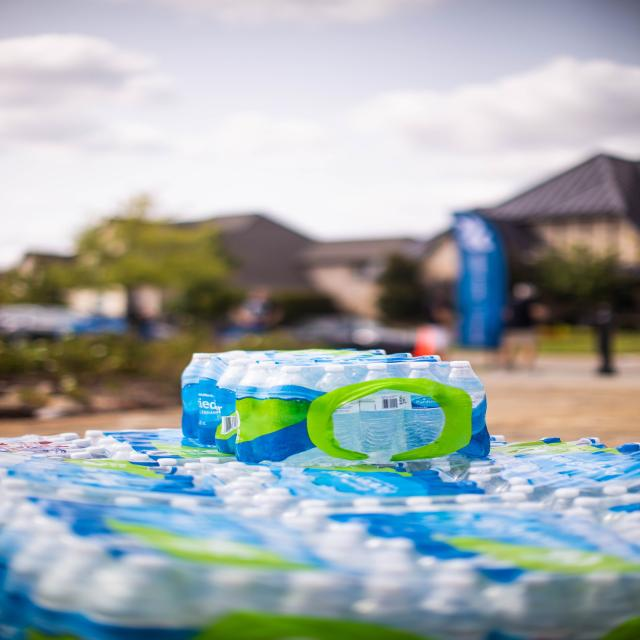Bottle: (200, 359, 254, 453), (194, 351, 246, 439), (448, 361, 490, 456), (359, 390, 410, 462), (182, 353, 213, 439), (404, 394, 444, 449), (448, 361, 485, 408), (333, 401, 359, 450)
